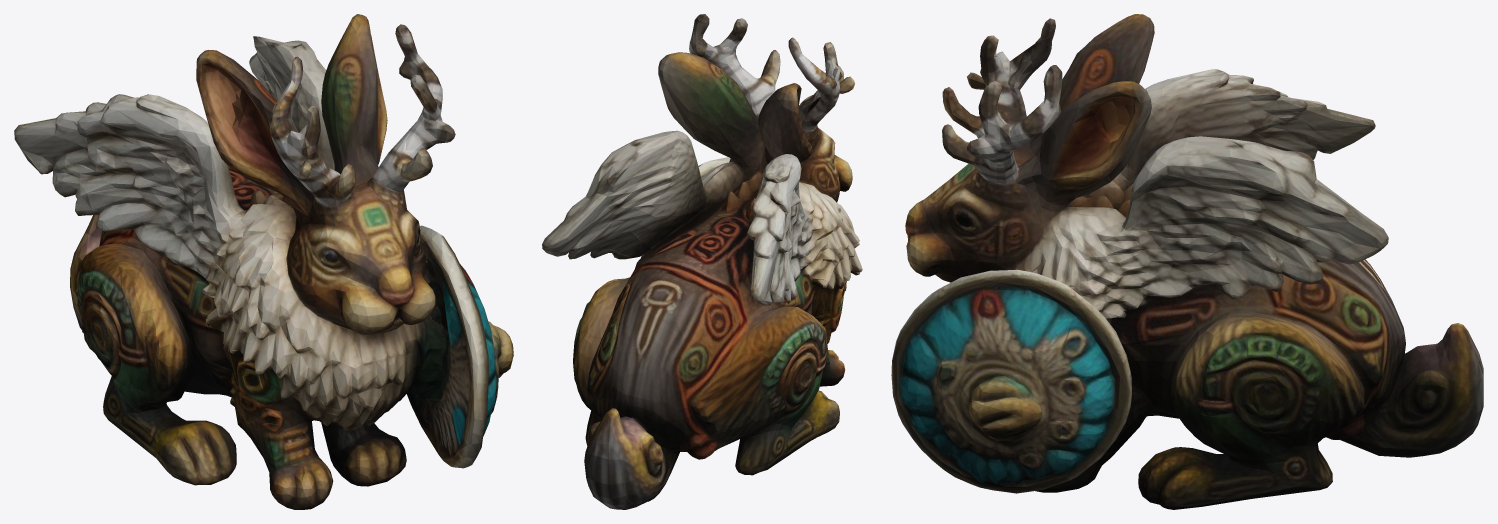
Rendered from zephyrra__featherward.glb.
3 views of the same model, side by side, from view 1: azimuth 30°, elevation 25°; view 2: azimuth 150°, elevation 25°; view 3: azimuth 270°, elevation 25° (orthographic). The views are drawn at different scales.
Visible parts, largest first — view 1: world; view 2: world; view 3: world.
Part boxes in pixels (x1,y1,x2,y2): world: [14, 14, 513, 509]; world: [542, 14, 862, 509]; world: [891, 14, 1483, 509].
Bounding box in the file's own units: 0.5989 × 0.8094 × 0.9986.
Materials: 1 (1 with a texture image).
